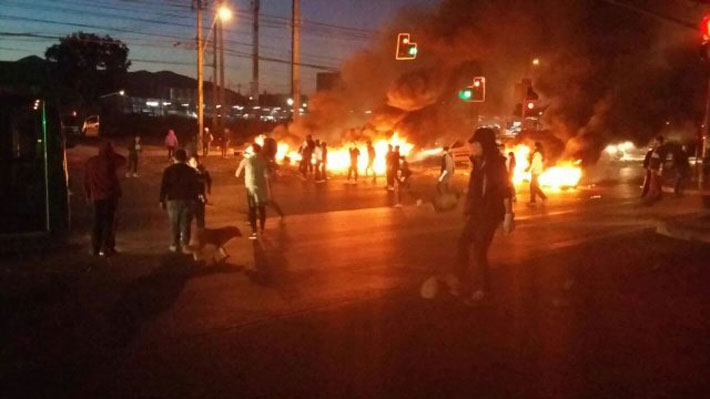Barricade: (250, 103, 588, 205)
